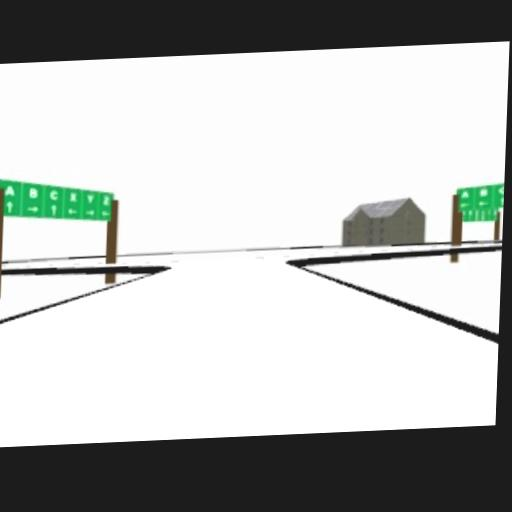Right: (27, 204, 38, 212)
X: (71, 192, 78, 203)
Y: (85, 194, 94, 204)
